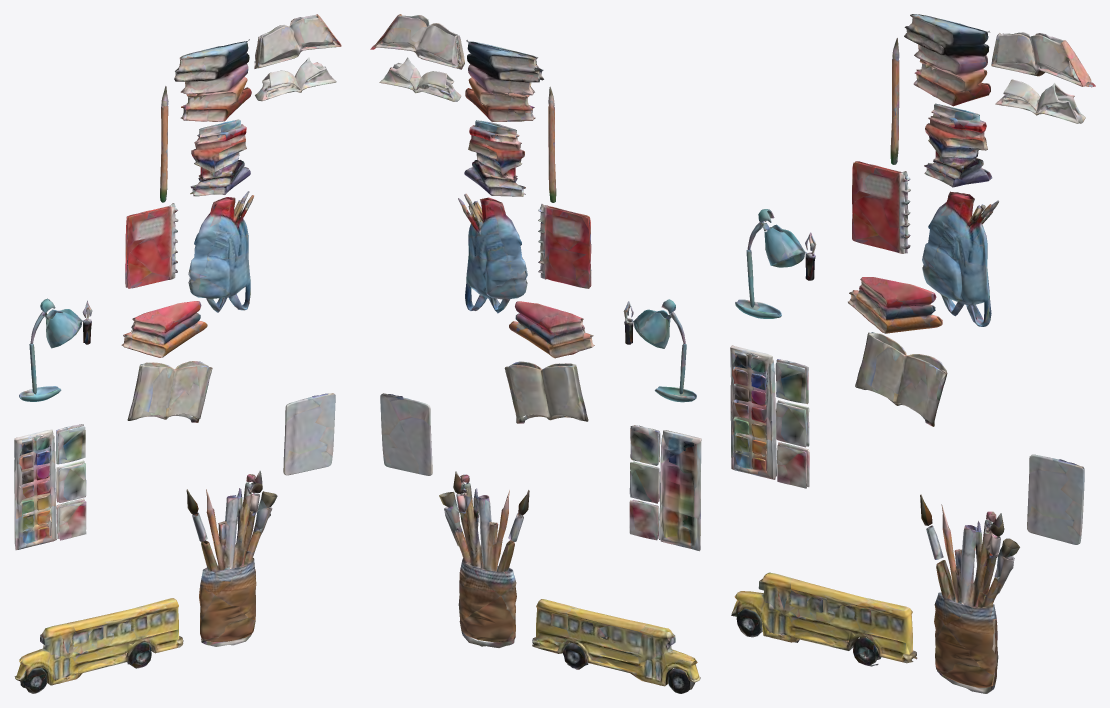
3 renders of one model, left to right at view 1: azimuth 30°, elevation 25°; view 2: azimuth 150°, elevation 25°; view 3: azimuth 330°, elevation 25°, orthographic. The views are drawn at different scales.
Visible parts, largest first — view 1: Mesh 39, Mesh 12, Mesh 21, Mesh 1, Mesh 2, Mesh 33, Mesh 31, Mesh 46, Mesh 3, Mesh 30, Mesh 9, Mesh 8 (+2 smaller); view 2: Mesh 39, Mesh 12, Mesh 21, Mesh 1, Mesh 2, Mesh 33, Mesh 31, Mesh 46, Mesh 3, Mesh 30, Mesh 9, Mesh 8 (+2 smaller); view 3: Mesh 39, Mesh 12, Mesh 21, Mesh 1, Mesh 2, Mesh 33, Mesh 31, Mesh 46, Mesh 3, Mesh 30, Mesh 9, Mesh 8 (+2 smaller).
Part boxes in pixels (bbox=[...]): Mesh 39: bbox=[186, 470, 277, 646]; Mesh 12: bbox=[14, 598, 183, 693]; Mesh 21: bbox=[14, 424, 86, 550]; Mesh 1: bbox=[188, 191, 253, 312]; Mesh 2: bbox=[174, 39, 251, 121]; Mesh 33: bbox=[127, 361, 212, 422]; Mesh 31: bbox=[125, 203, 178, 288]; Mesh 46: bbox=[283, 393, 335, 475]; Mesh 3: bbox=[190, 119, 250, 196]; Mesh 30: bbox=[121, 301, 207, 357]; Mesh 9: bbox=[254, 14, 341, 68]; Mesh 8: bbox=[19, 298, 92, 401]; Mesh 39: bbox=[439, 471, 529, 647]; Mesh 12: bbox=[532, 599, 700, 693]; Mesh 21: bbox=[629, 425, 701, 551]; Mesh 1: bbox=[458, 193, 527, 313]; Mesh 2: bbox=[465, 40, 543, 121]; Mesh 33: bbox=[504, 361, 588, 423]; Mesh 31: bbox=[538, 204, 591, 288]; Mesh 46: bbox=[380, 393, 432, 475]; Mesh 3: bbox=[464, 120, 525, 196]; Mesh 30: bbox=[509, 301, 594, 358]; Mesh 9: bbox=[370, 14, 464, 69]; Mesh 8: bbox=[623, 299, 696, 402]; Mesh 39: bbox=[920, 494, 1019, 693]; Mesh 12: bbox=[731, 572, 917, 666]; Mesh 21: bbox=[730, 345, 809, 488]; Mesh 1: bbox=[922, 191, 998, 326]; Mesh 2: bbox=[904, 14, 990, 106]; Mesh 33: bbox=[855, 332, 947, 426]; Mesh 31: bbox=[852, 161, 910, 253]; Mesh 46: bbox=[1027, 454, 1084, 544]; Mesh 3: bbox=[924, 103, 992, 187]; Mesh 30: bbox=[848, 277, 942, 333]; Mesh 9: bbox=[991, 32, 1095, 87]; Mesh 8: bbox=[735, 209, 816, 318].
Size of the model in its own units: 1.06 by 1.89 by 0.0641.
14 materials, 14 textured.
